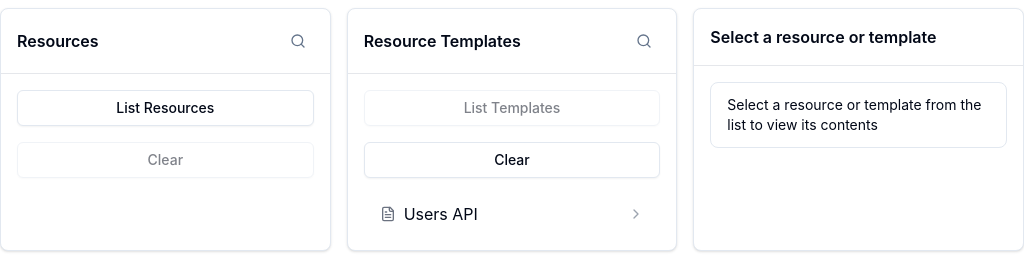
Scenario: ResourcesTab - Template Query Parameters › should display template description when template is selected
The image size is (1024, 269).
Note: Click on the resource template to select it
Step 1. Click the text "Users API" → (441, 214), box x1=404 y1=204 x2=478 y2=224
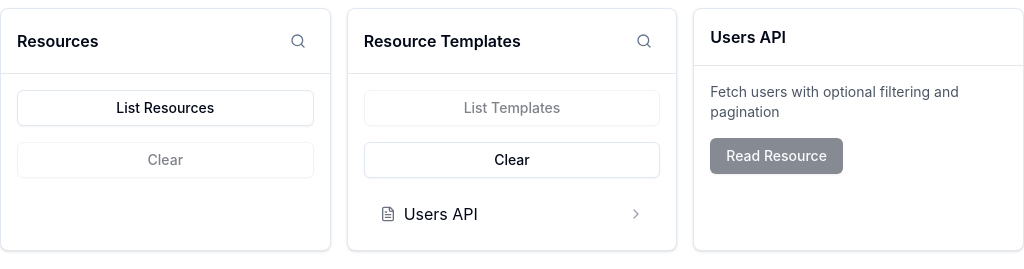
Result: the text "Fetch users with optional filtering and pagination" is shown at x1=710 y1=83 x2=959 y2=120
